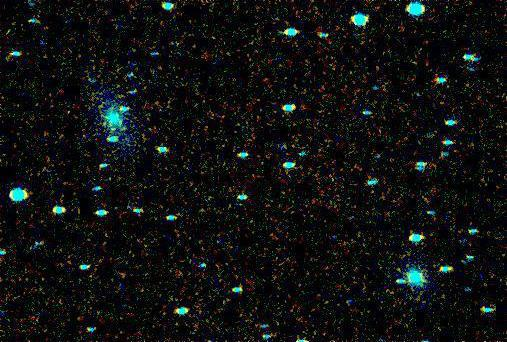star: (99, 113, 129, 143)
